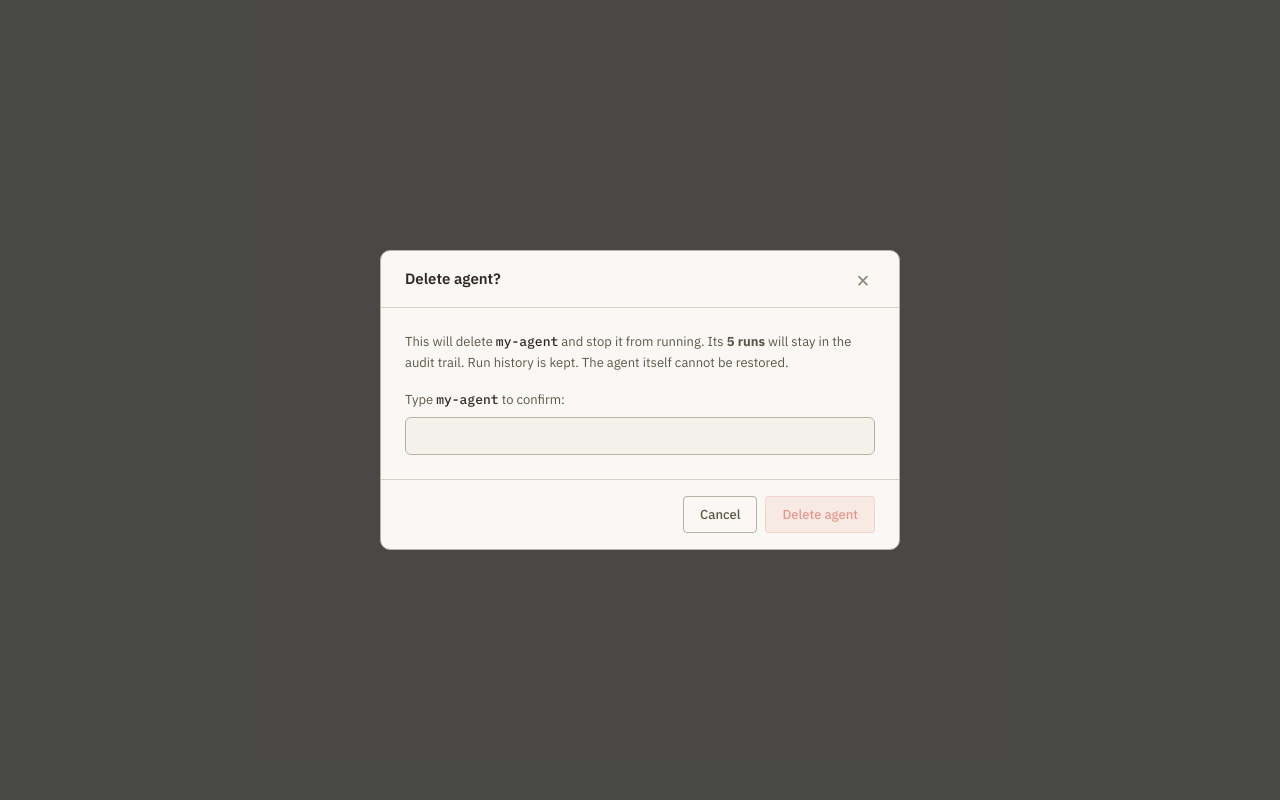
DeleteAgentModal — confirm name gating › Delete agent button becomes enabled when exact name is typed
Type "my-agent" into the field labelled "Type my-agent to confirm:" at [640, 436], box [405,417,875,454]
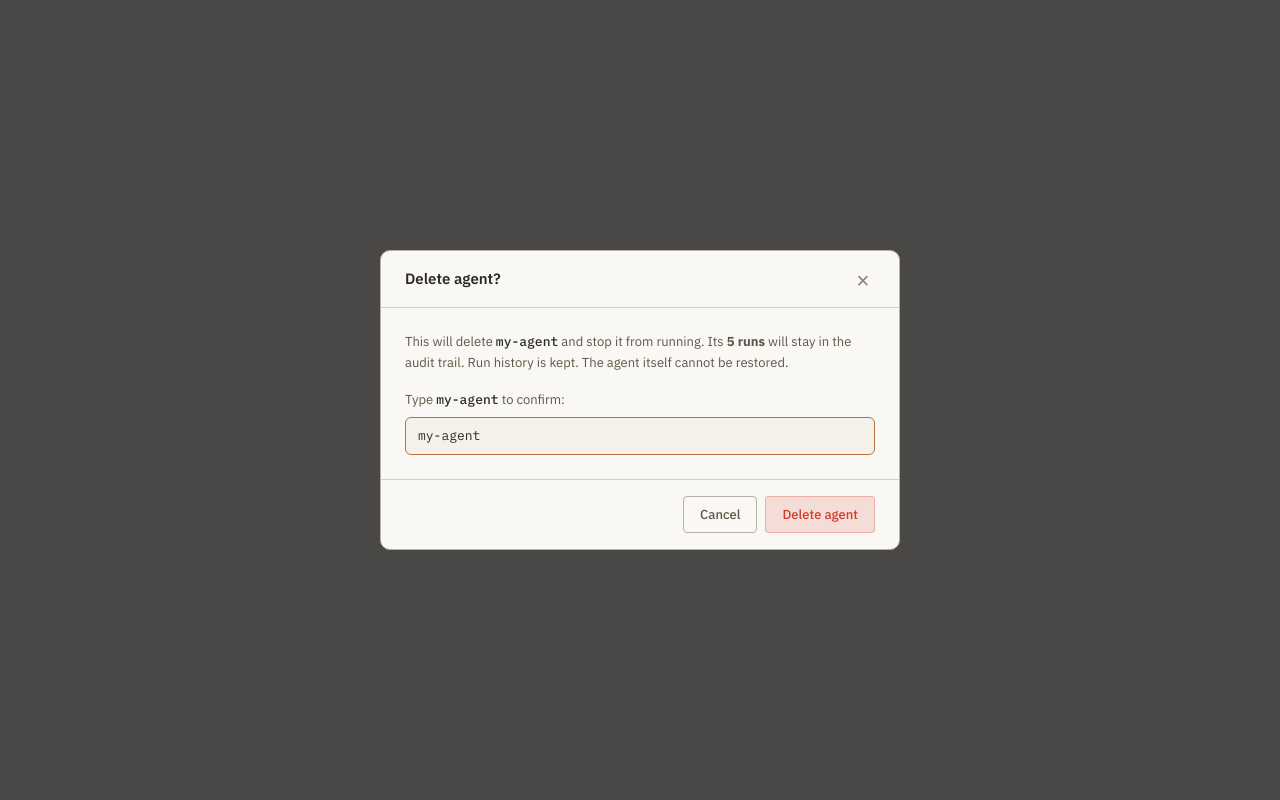
Expected: the button "Delete agent" is enabled, [766,496,875,533]
